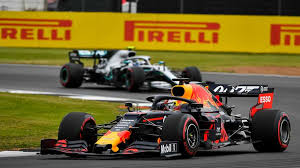FormulaOneCar: (36, 74, 295, 164), (51, 41, 205, 94)
